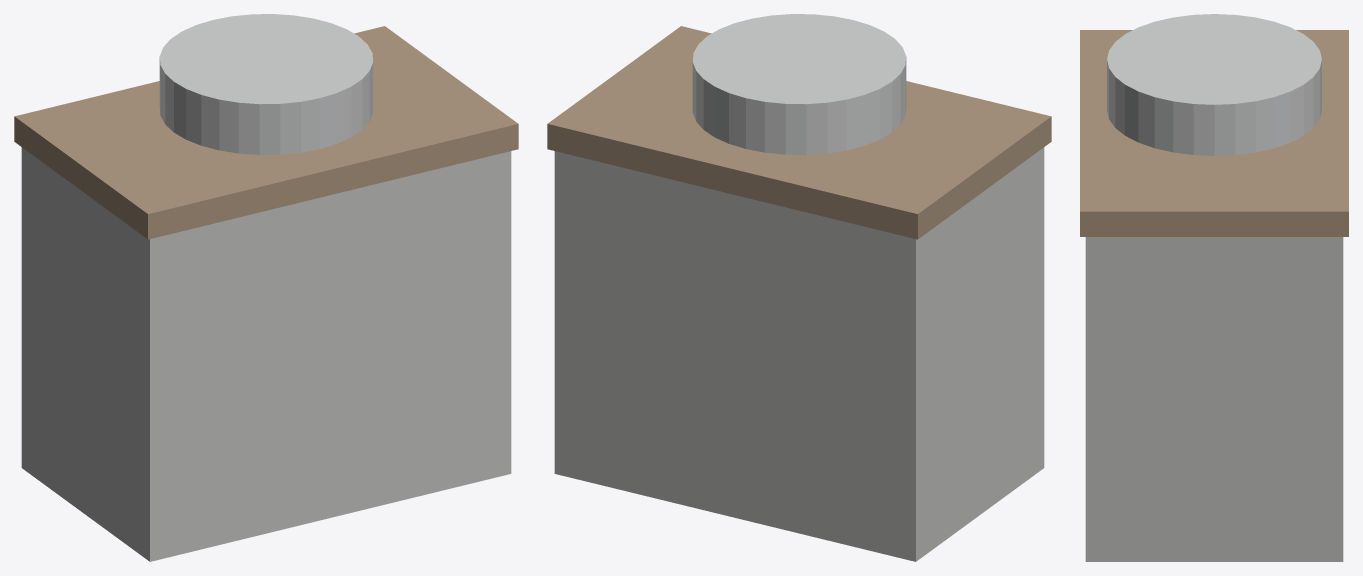
File: vanity-800.glb
3 renders of one model, left to right at view 1: azimuth 30°, elevation 25°; view 2: azimuth 150°, elevation 25°; view 3: azimuth 270°, elevation 25°, orthographic.
Visible parts, largest first — view 1: world; view 2: world; view 3: world.
Boxes of the visible parts, left/top/right/bottom form: world: left=14, top=14, right=518, bottom=561; world: left=547, top=14, right=1051, bottom=561; world: left=1080, top=14, right=1348, bottom=561.
Bounding box in the file's own units: 0.8 × 0.85 × 0.5.
